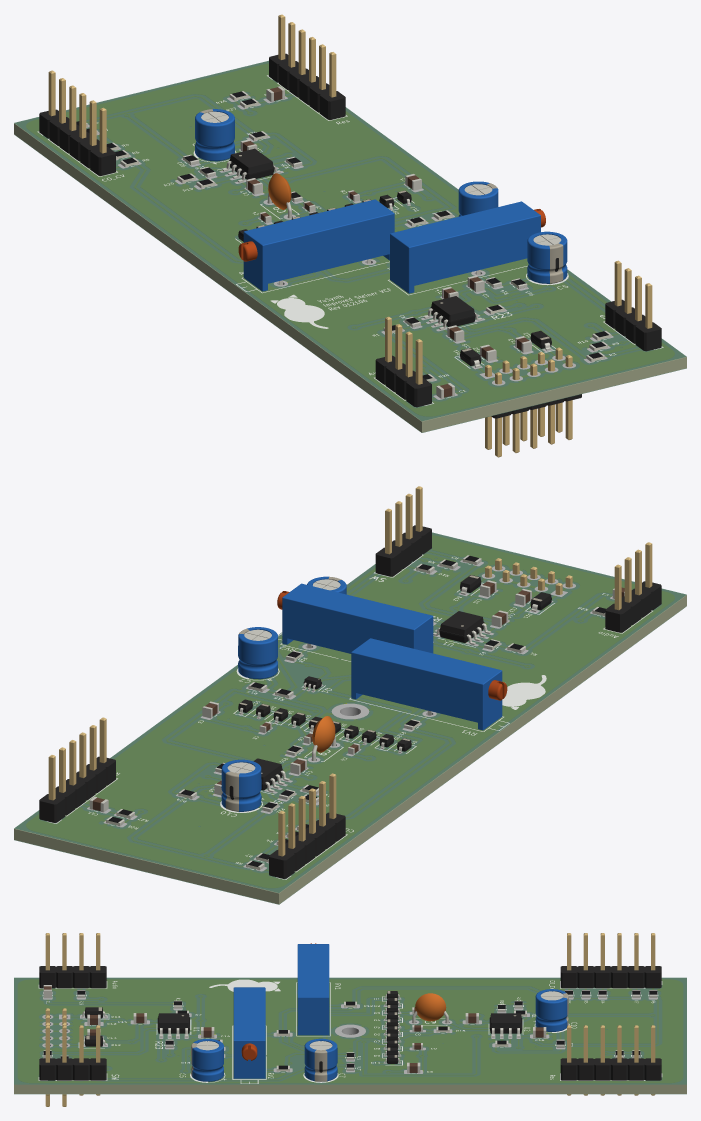
Rendered from board.glb.
3 renders of one model, top to bottom at view 1: azimuth 30°, elevation 25°; view 2: azimuth 150°, elevation 25°; view 3: azimuth 270°, elevation 25°, orthographic. The views are drawn at different scales.
Visible parts, largest first — view 1: board_soldermask (×2), board_copper, board_PCB, Bourns_3006P (×2), PinHeader_1x06_P254mm_Vertical (×2), PinHeader_1x04_P254mm_Vertical (×2), CP_Radial_D50mm_P250mm (×3), PinHeader_2x05_P254mm_Vertical, board_silkscreen, SO-8_3.9x4.9mm_P1.27mm (×2), board_pad, C_Disc_D47mm_W25mm_P500mm; view 2: board_soldermask (×2), board_copper, board_PCB, Bourns_3006P (×2), PinHeader_1x06_P254mm_Vertical (×2), PinHeader_1x04_P254mm_Vertical (×2), CP_Radial_D50mm_P250mm (×2), board_silkscreen, board_pad, SO-8_3.9x4.9mm_P1.27mm (×2), PinHeader_2x05_P254mm_Vertical, C_Disc_D47mm_W25mm_P500mm; view 3: board_soldermask (×2), board_copper, board_PCB, PinHeader_1x06_P254mm_Vertical (×2), Bourns_3006P (×2), PinHeader_1x04_P254mm_Vertical (×2), CP_Radial_D50mm_P250mm (×3), board_silkscreen, board_pad, SO-8_3.9x4.9mm_P1.27mm (×2), C_Disc_D47mm_W25mm_P500mm, PinHeader_2x05_P254mm_Vertical.
Part boxes in pixels (x1,y1,x2,y2): board_soldermask (×2): (14, 60, 686, 432); board_copper: (26, 64, 674, 415); board_PCB: (14, 61, 686, 432); Bourns_3006P (×2): (238, 199, 545, 293); PinHeader_1x06_P254mm_Vertical (×2): (39, 14, 345, 175); PinHeader_1x04_P254mm_Vertical (×2): (375, 260, 661, 407); CP_Radial_D50mm_P250mm (×3): (195, 109, 567, 283); PinHeader_2x05_P254mm_Vertical: (485, 347, 581, 457); board_silkscreen: (37, 75, 663, 405); SO-8_3.9x4.9mm_P1.27mm (×2): (222, 148, 482, 329); board_pad: (86, 95, 613, 399); C_Disc_D47mm_W25mm_P500mm: (267, 173, 291, 218); board_soldermask (×2): (14, 532, 686, 904); board_copper: (26, 536, 674, 887); board_PCB: (14, 533, 686, 904); Bourns_3006P (×2): (277, 583, 507, 730); PinHeader_1x06_P254mm_Vertical (×2): (39, 717, 345, 878); PinHeader_1x04_P254mm_Vertical (×2): (375, 486, 661, 632); CP_Radial_D50mm_P250mm (×2): (221, 627, 277, 811); board_silkscreen: (47, 554, 652, 879); board_pad: (87, 560, 614, 871); SO-8_3.9x4.9mm_P1.27mm (×2): (253, 611, 491, 792); PinHeader_2x05_P254mm_Vertical: (485, 558, 572, 594); C_Disc_D47mm_W25mm_P500mm: (312, 716, 335, 760); board_soldermask (×2): (14, 977, 686, 1094); board_copper: (18, 980, 682, 1082); board_PCB: (14, 978, 686, 1093); PinHeader_1x06_P254mm_Vertical (×2): (560, 933, 661, 1095); Bourns_3006P (×2): (233, 943, 329, 1078); PinHeader_1x04_P254mm_Vertical (×2): (39, 933, 106, 1095); CP_Radial_D50mm_P250mm (×3): (191, 989, 568, 1081); board_silkscreen: (38, 979, 662, 1083); board_pad: (42, 992, 657, 1073); SO-8_3.9x4.9mm_P1.27mm (×2): (157, 1013, 522, 1037); C_Disc_D47mm_W25mm_P500mm: (412, 993, 448, 1023); PinHeader_2x05_P254mm_Vertical: (45, 1008, 66, 1106).
Bounding box in the file's own units: 0.0381 × 0.0188 × 0.1017.
